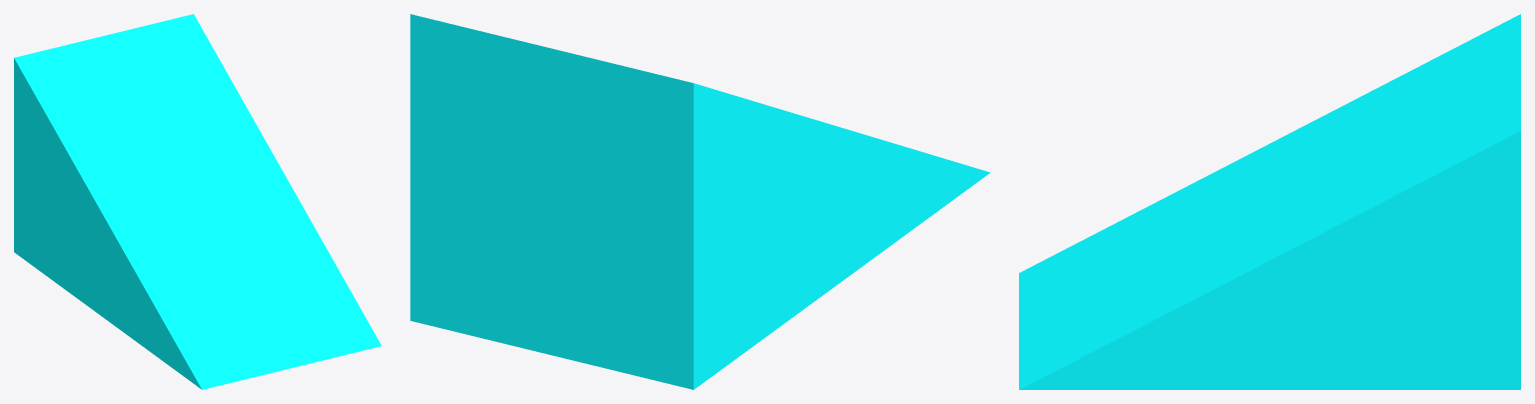
The picture shows the model from 3 angles, left to right: view 1: azimuth 30°, elevation 25°; view 2: azimuth 150°, elevation 25°; view 3: azimuth 270°, elevation 25°; orthographic projection. The views are drawn at different scales.
Parts seen in each view (by area): view 1: BaseRamp.005; view 2: BaseRamp.005; view 3: BaseRamp.005.
Boxes of the visible parts, x1,y1,x2,y2 form: BaseRamp.005: (14,14,381,389); BaseRamp.005: (410,14,990,389); BaseRamp.005: (1019,14,1520,389).
Size of what is drawn, in the model's own units: 1.85 by 1.91 by 3.35.
1 material, 1 textured.
